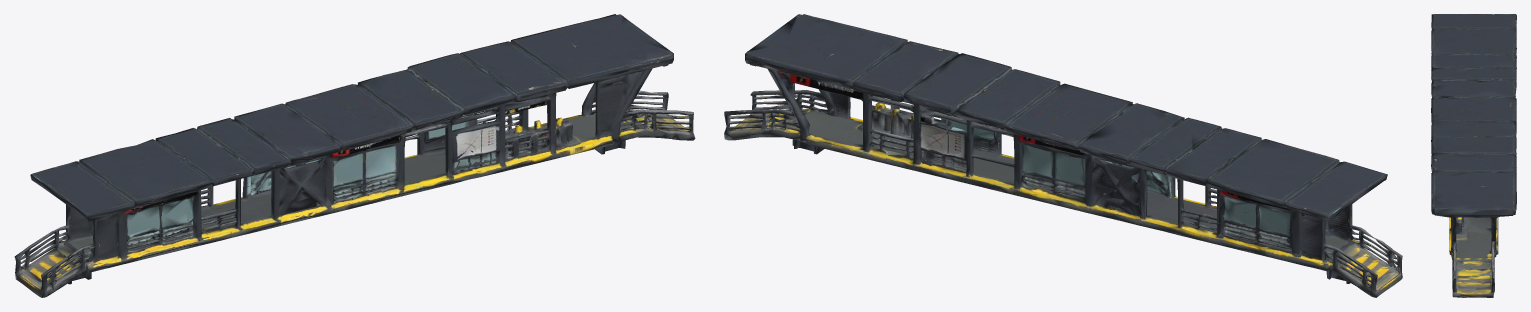
File: estacion.opt.glb
3 views of the same model, side by side, from view 1: azimuth 30°, elevation 25°; view 2: azimuth 150°, elevation 25°; view 3: azimuth 270°, elevation 25° (orthographic). The views are drawn at different scales.
Bounding box in the file's own units: 1.9 × 0.2916 × 0.2961.
Materials: 1 (1 with a texture image).
